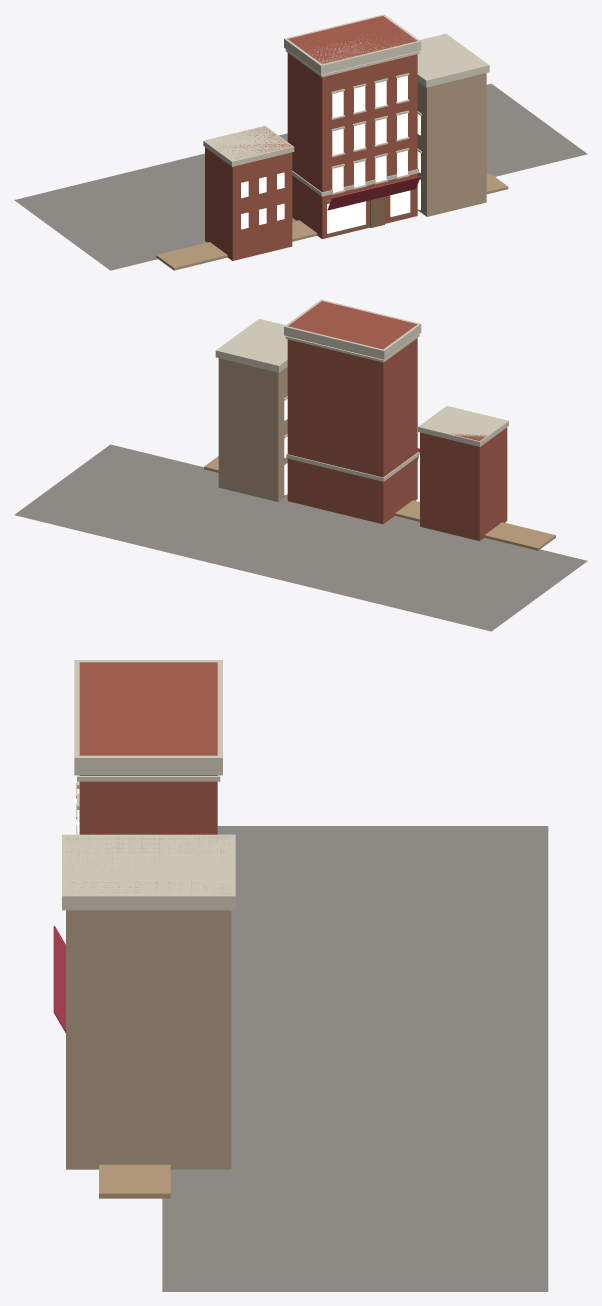
Rendered from atlanta-corner-block.glb.
The picture shows the model from 3 angles, top to bottom: view 1: azimuth 30°, elevation 25°; view 2: azimuth 150°, elevation 25°; view 3: azimuth 270°, elevation 25°; orthographic projection. The views are drawn at different scales.
Visible parts, largest first — view 1: street, pharmacy_main, corner_main, distant_main, corner_cornice, distant_cornice, pharmacy_cornice, sidewalk, awning, display_window_left, display_window_right, pharmacy_cornice_band (+2 smaller); view 2: street, pharmacy_main, corner_main, distant_main, corner_cornice, distant_cornice, pharmacy_cornice, sidewalk, pharmacy_floor_band_1, pharmacy_cornice_band; view 3: street, corner_main, pharmacy_main, corner_cornice, pharmacy_cornice, sidewalk, awning, pharmacy_cornice_band.
Boxes of the visible parts, x1=… form: street: x1=14, y1=83, x2=587, y2=270; pharmacy_main: x1=287, y1=16, x2=417, y2=239; corner_main: x1=417, y1=73, x2=486, y2=216; distant_main: x1=205, y1=127, x2=292, y2=260; corner_cornice: x1=417, y1=33, x2=489, y2=87; distant_cornice: x1=203, y1=125, x2=294, y2=166; pharmacy_cornice: x1=284, y1=14, x2=421, y2=74; sidewalk: x1=156, y1=173, x2=508, y2=270; awning: x1=327, y1=176, x2=420, y2=210; display_window_left: x1=327, y1=201, x2=365, y2=233; display_window_right: x1=390, y1=190, x2=410, y2=216; pharmacy_cornice_band: x1=285, y1=49, x2=419, y2=77; street: x1=14, y1=444, x2=587, y2=631; pharmacy_main: x1=287, y1=301, x2=417, y2=524; corner_main: x1=218, y1=358, x2=287, y2=501; distant_main: x1=420, y1=427, x2=507, y2=540; corner_cornice: x1=215, y1=318, x2=287, y2=372; distant_cornice: x1=418, y1=406, x2=508, y2=446; pharmacy_cornice: x1=284, y1=299, x2=421, y2=359; sidewalk: x1=204, y1=456, x2=555, y2=550; pharmacy_floor_band_1: x1=286, y1=452, x2=418, y2=481; pharmacy_cornice_band: x1=285, y1=334, x2=419, y2=362; street: x1=162, y1=826, x2=548, y2=1291; corner_main: x1=66, y1=836, x2=231, y2=1169; pharmacy_main: x1=79, y1=662, x2=217, y2=834; corner_cornice: x1=62, y1=834, x2=235, y2=910; pharmacy_cornice: x1=74, y1=660, x2=222, y2=775; sidewalk: x1=99, y1=1164, x2=170, y2=1198; awning: x1=53, y1=925, x2=65, y2=1032; pharmacy_cornice_band: x1=77, y1=775, x2=220, y2=781.
Bounding box in the file's own units: 40 × 14 × 17.95.
